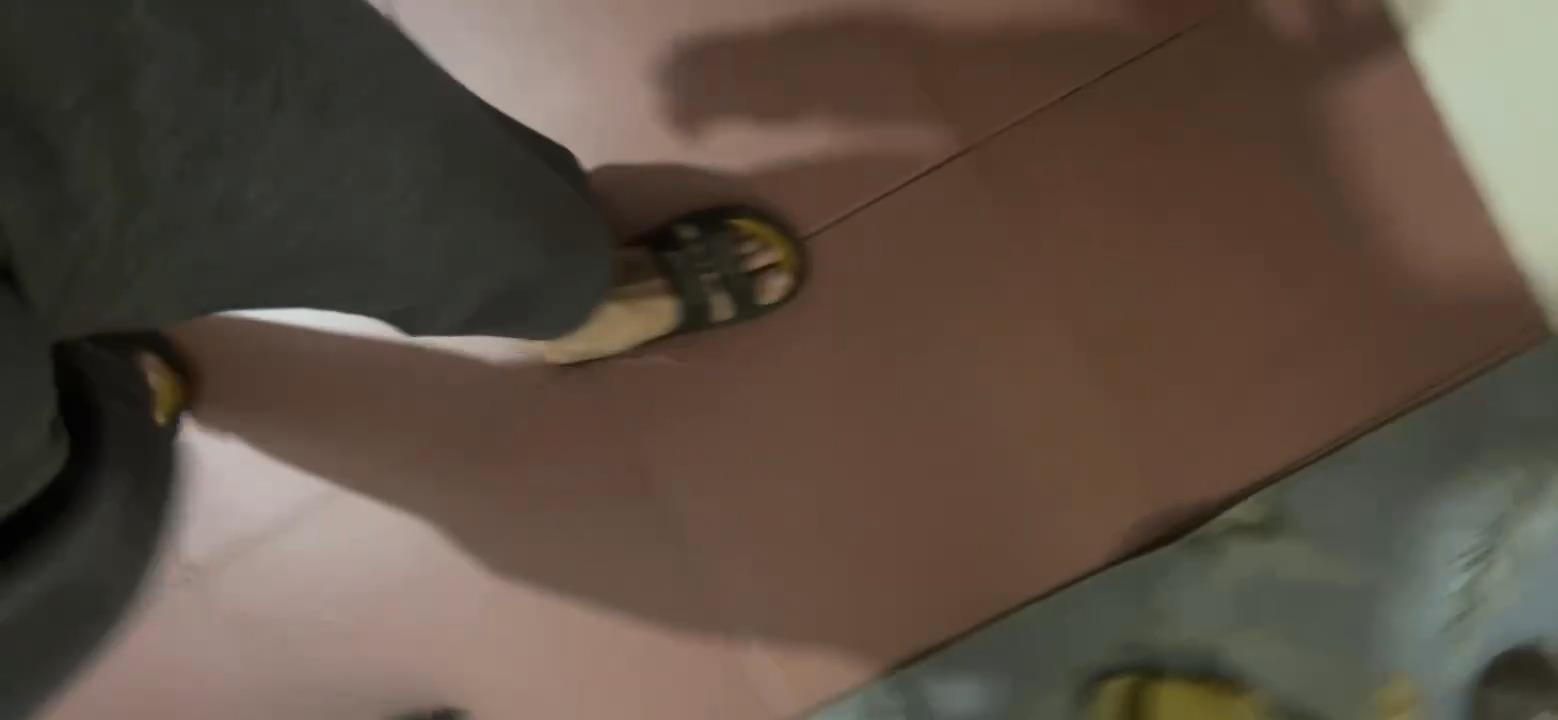no-boot: (525, 199, 801, 353)
